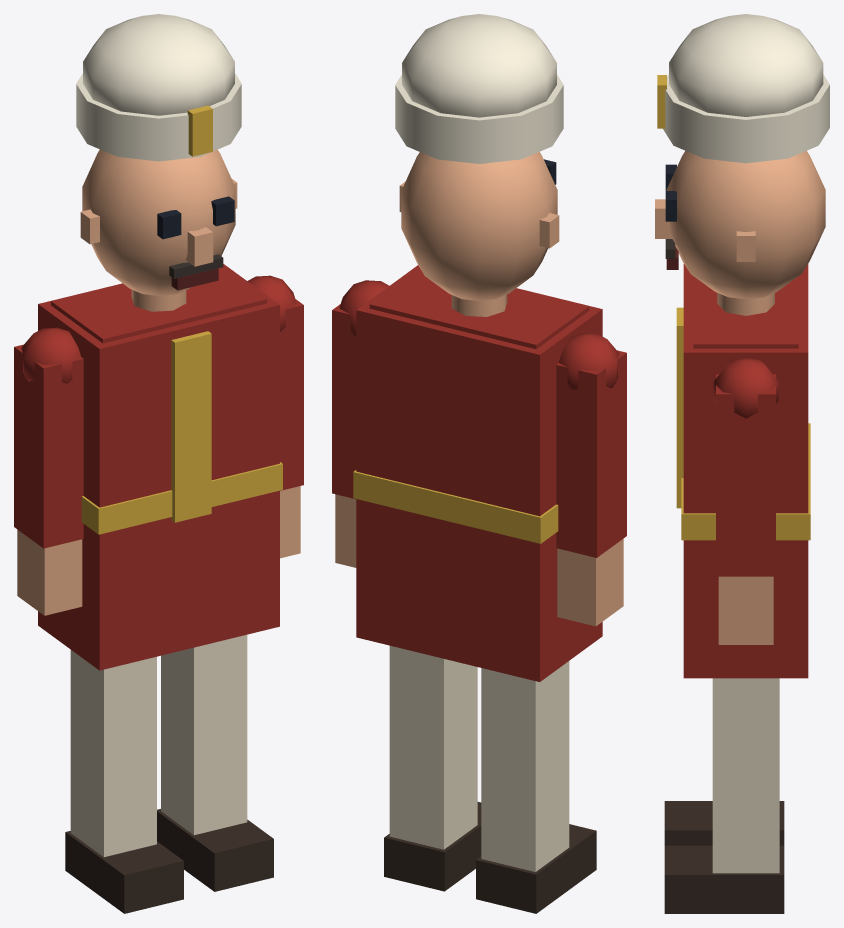
The model's file is fatih.glb.
3 views of the same model, side by side, from view 1: azimuth 30°, elevation 25°; view 2: azimuth 150°, elevation 25°; view 3: azimuth 270°, elevation 25° (orthographic).
Parts seen in each view (by area): view 1: Body, LegR, LegL, Hat, ArmR, Head, ArmL, Mouth; view 2: Body, LegR, Hat, LegL, ArmR, Head, ArmL; view 3: Body, Hat, Head, LegL, ArmL, LegR.
Part boxes in pixels (box(x1,y1,x2,y2)): Body: box(38, 264, 282, 670); LegR: box(65, 650, 183, 913); LegL: box(157, 634, 273, 891); Hat: box(76, 14, 241, 161); ArmR: box(14, 327, 83, 615); Head: box(80, 149, 237, 295); ArmL: box(247, 275, 303, 558); Mouth: box(171, 268, 218, 290); Body: box(353, 265, 602, 681); LegR: box(476, 661, 596, 913); Hat: box(395, 14, 563, 163); LegL: box(384, 645, 481, 891); ArmR: box(556, 333, 626, 626); Head: box(399, 152, 559, 300); ArmL: box(332, 280, 389, 567); Body: box(676, 264, 810, 678); Hat: box(657, 14, 829, 163); Head: box(655, 151, 825, 299); LegL: box(664, 678, 784, 913); ArmL: box(713, 358, 778, 644); LegR: box(664, 801, 784, 845).
Bounding box in the file's own units: 0.6556 × 1.97 × 0.365.
